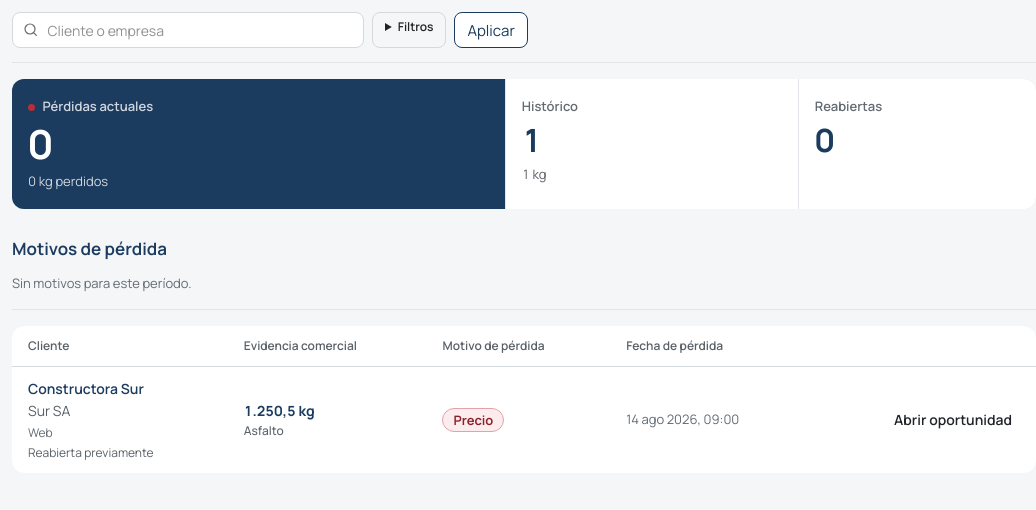
Test: LostPage › labels a server-authoritative empty result as filtered, not as historical absence
Expected: the text "Constructora Sur" is shown, [28, 379, 144, 398]
In the search field named "Buscar": (188, 30) [12, 12, 364, 48], type "nadie"
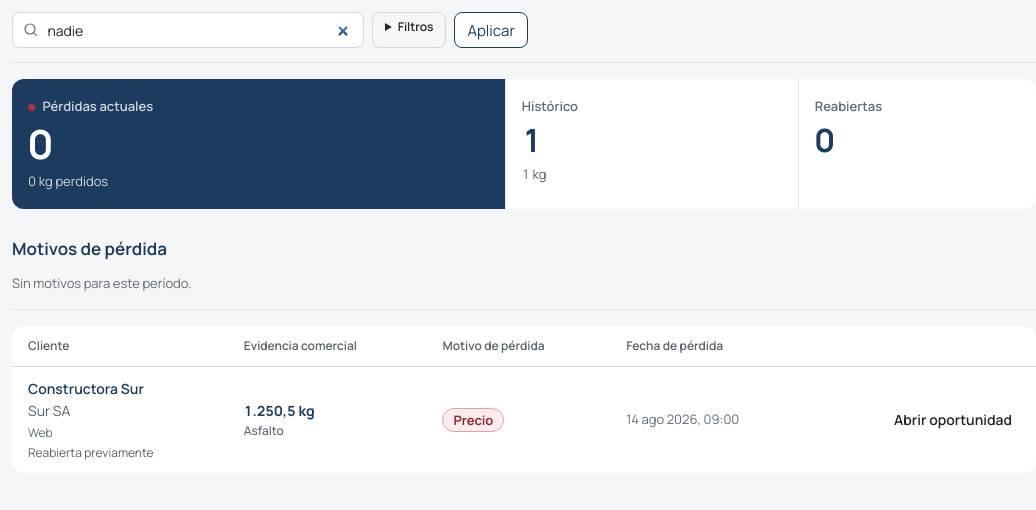
Click the button "Aplicar": click(491, 30) [454, 12, 528, 48]
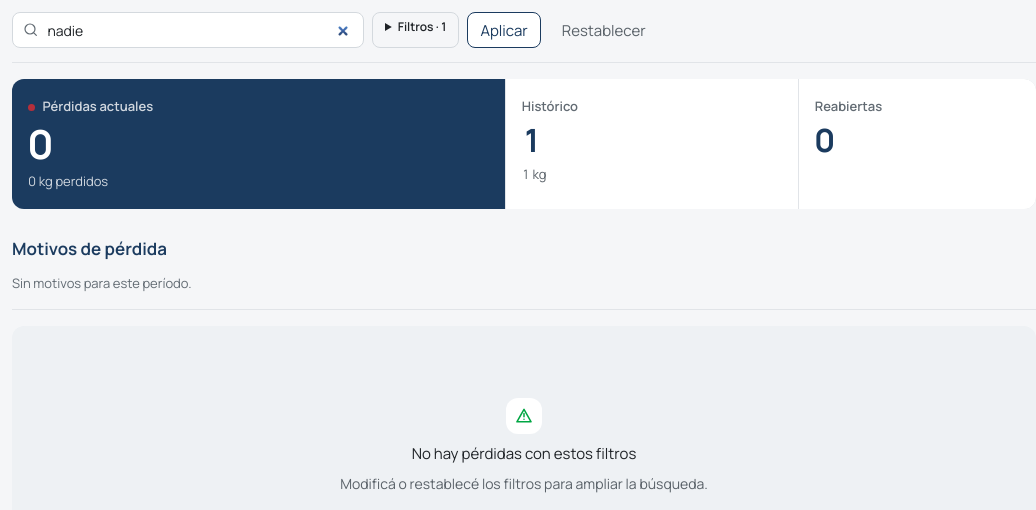
Result: the heading "No hay pérdidas con estos filtros" is shown at [412, 442, 636, 466]
